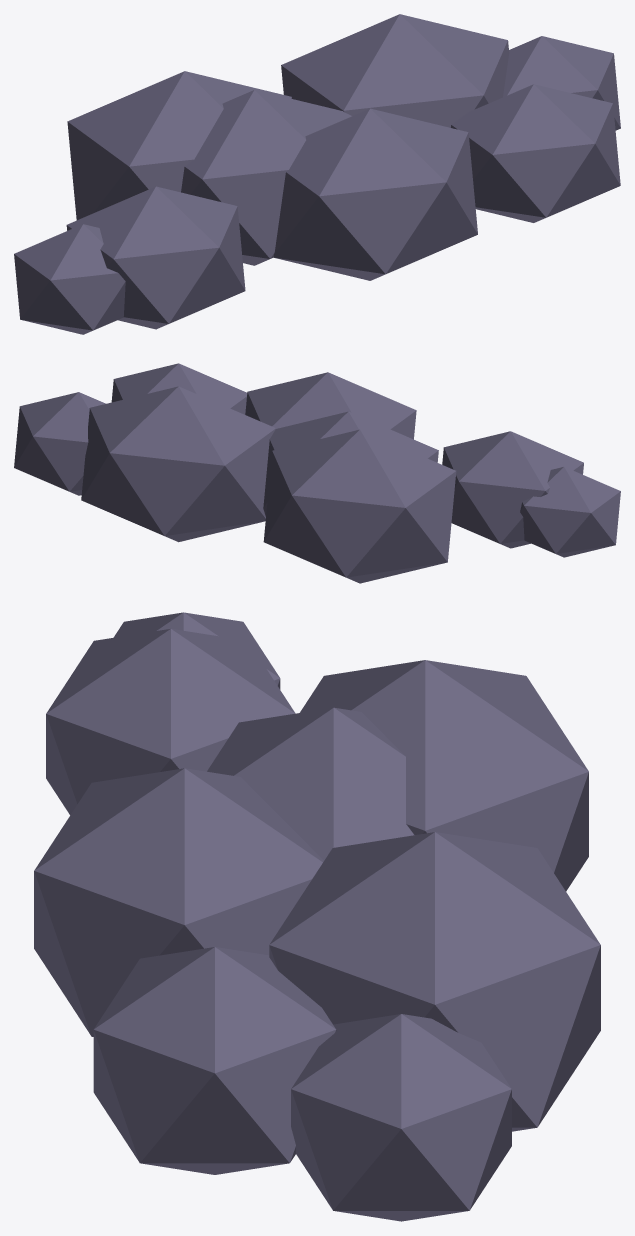
File: storm_cloud.glb
3 views of the same model, one above another, from view 1: azimuth 30°, elevation 25°; view 2: azimuth 150°, elevation 25°; view 3: azimuth 270°, elevation 25° (orthographic). The views are drawn at different scales.
Parts seen in each view (by area): view 1: StormCloud; view 2: StormCloud; view 3: StormCloud.
Boxes of the visible parts, left/top/right/bottom form: StormCloud: left=14, top=14, right=620, bottom=334; StormCloud: left=14, top=363, right=620, bottom=583; StormCloud: left=34, top=612, right=600, bottom=1221.
Size of the model in its own units: 59.81 by 16.45 by 27.09.
